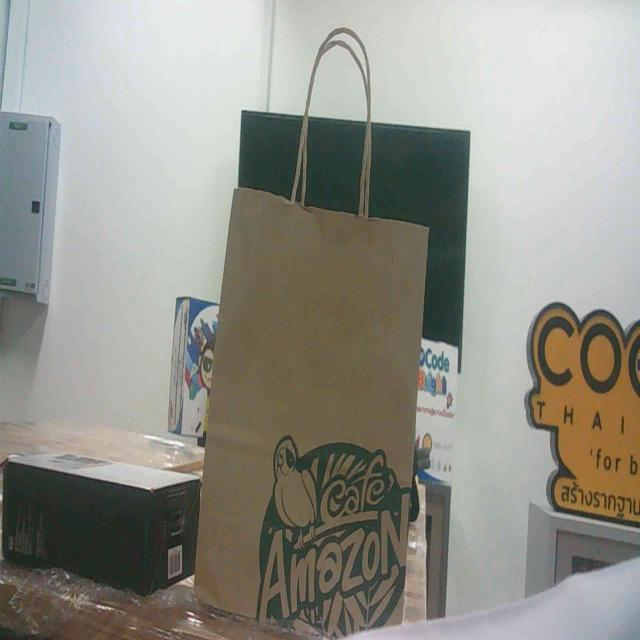bag: (195, 135, 453, 640)
